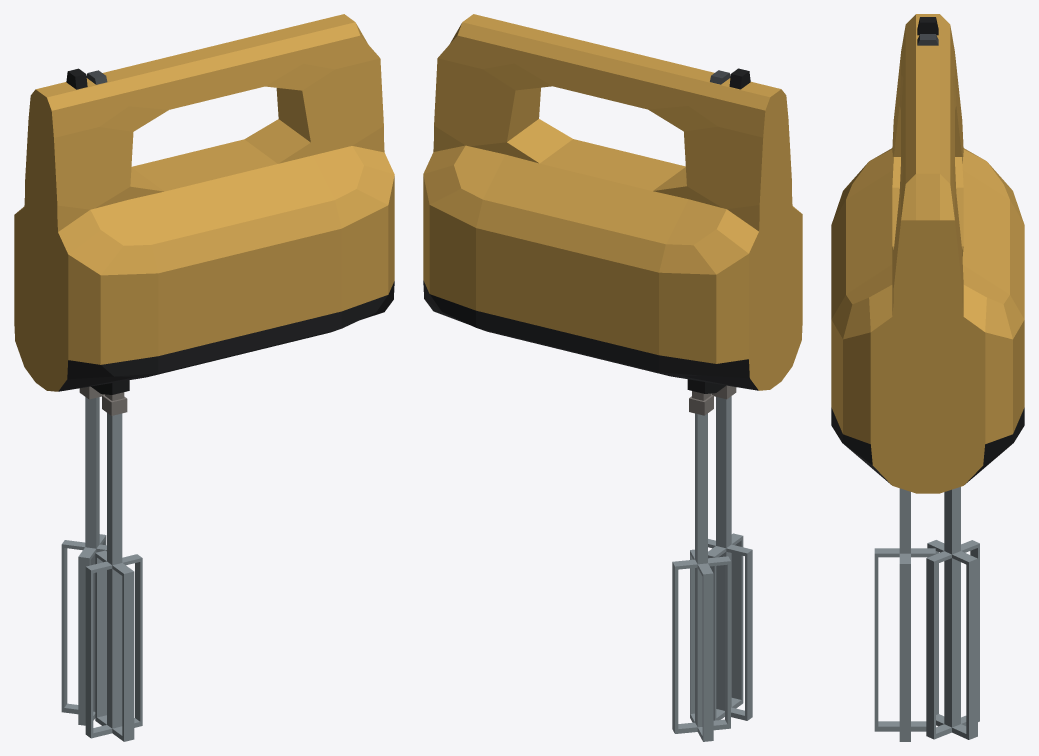
File: electricmixers_01_D.gltf
The picture shows the model from 3 angles, left to right: view 1: azimuth 30°, elevation 25°; view 2: azimuth 150°, elevation 25°; view 3: azimuth 270°, elevation 25°; orthographic projection. The views are drawn at different scales.
Visible parts, largest first — view 1: electricmixers_01_D, mixerdevice_01_D, mixerdevice_02_D; view 2: electricmixers_01_D, mixerdevice_02_D, mixerdevice_01_D; view 3: electricmixers_01_D, mixerdevice_02_D, mixerdevice_01_D, buttonforelectricmixers_02_D.
Part boxes in pixels (x1=…): electricmixers_01_D: x1=14, y1=14, x2=394, y2=415; mixerdevice_01_D: x1=85, y1=413, x2=142, y2=741; mixerdevice_02_D: x1=61, y1=397, x2=106, y2=725; electricmixers_01_D: x1=423, y1=14, x2=802, y2=415; mixerdevice_02_D: x1=672, y1=413, x2=730, y2=741; mixerdevice_01_D: x1=708, y1=396, x2=752, y2=720; electricmixers_01_D: x1=831, y1=14, x2=1024, y2=493; mixerdevice_02_D: x1=926, y1=487, x2=979, y2=739; mixerdevice_01_D: x1=874, y1=488, x2=935, y2=741; buttonforelectricmixers_02_D: x1=917, y1=17, x2=938, y2=35.
Bounding box in the file's own units: 0.2861 × 0.5494 × 0.1384.
Materials: 1 (1 with a texture image).
